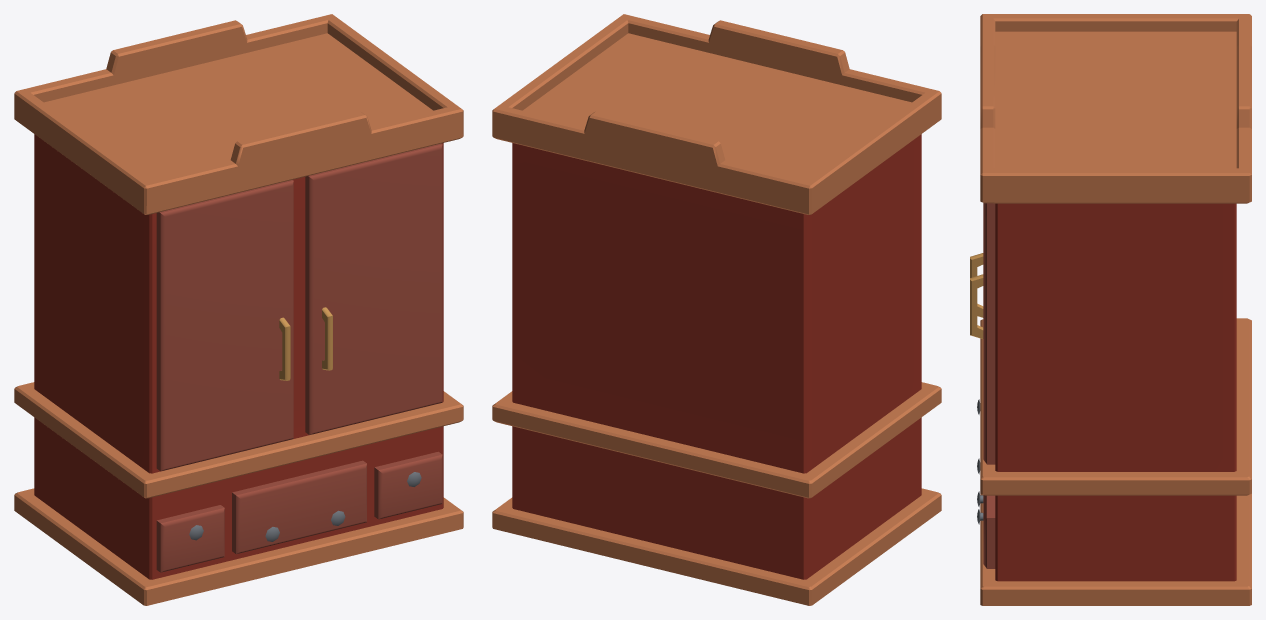
Rendered from Armadio_2.fbx.
The picture shows the model from 3 angles, left to right: view 1: azimuth 30°, elevation 25°; view 2: azimuth 150°, elevation 25°; view 3: azimuth 270°, elevation 25°; orthographic projection. The views are drawn at different scales.
Visible parts, largest first — view 1: Armadio_2; view 2: Armadio_2; view 3: Armadio_2.
Boxes of the visible parts, box(x1,y1,x2,y2) form: Armadio_2: box(14, 14, 463, 605); Armadio_2: box(492, 14, 941, 605); Armadio_2: box(970, 14, 1251, 605).
Size of the model in its own units: 1.61 by 2.1 by 1.19.
